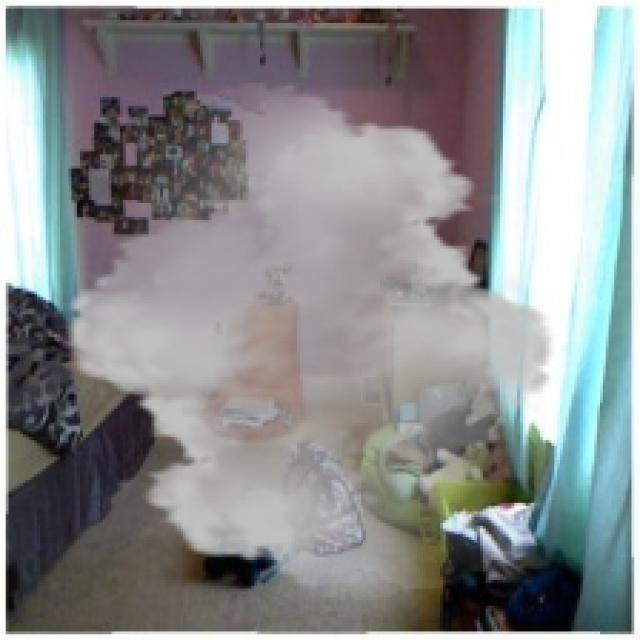Smoke: (46, 83, 574, 600)
